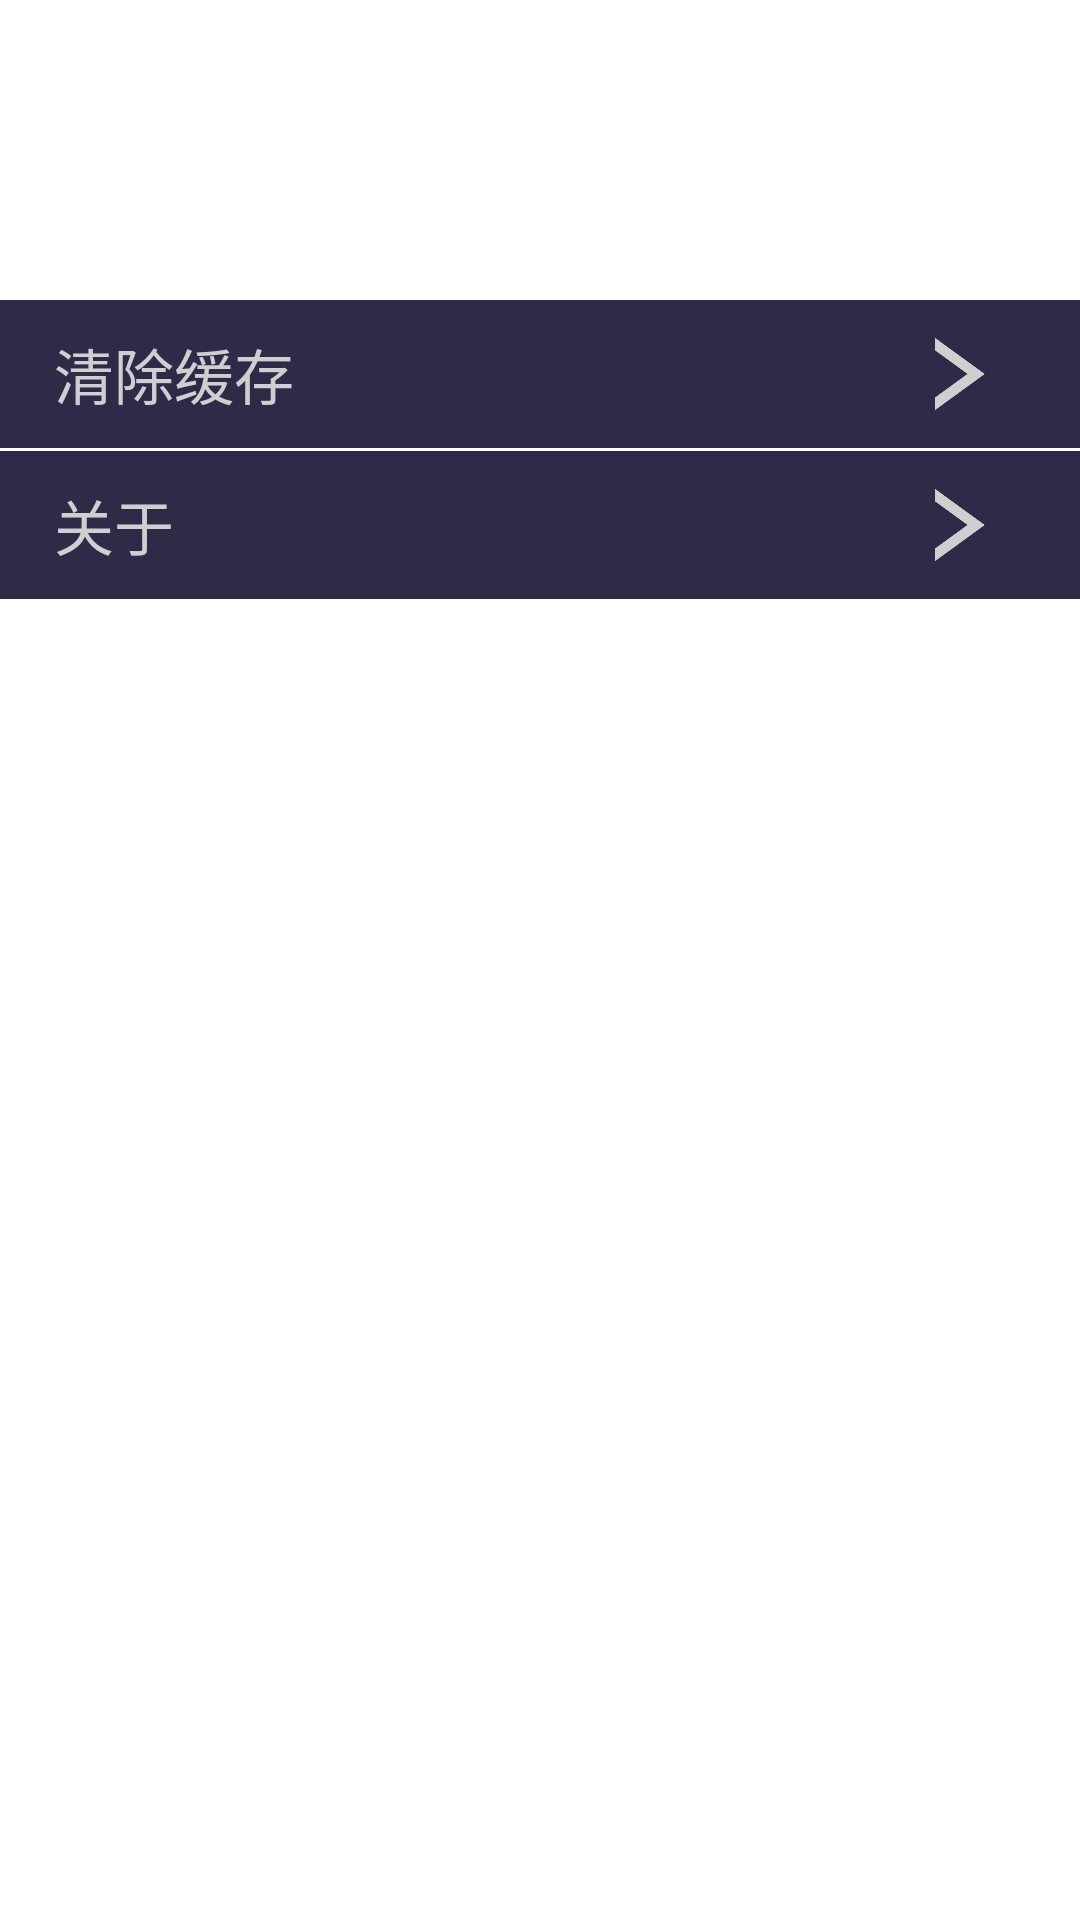

Named icons in this screenshot (1080*1920) and their bounding boxes, [left=x1, top=y1, right=x2, bottom=y2]:
right: [left=935, top=338, right=984, bottom=410], [left=935, top=489, right=984, bottom=561]
